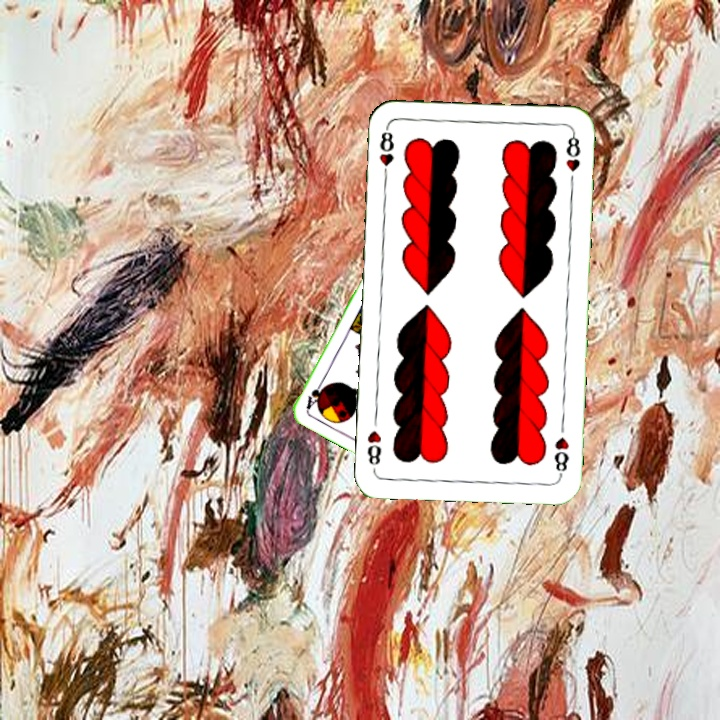H8: (375, 123, 396, 182), (550, 433, 572, 479)
